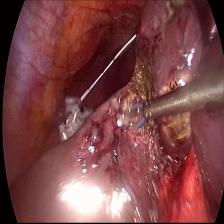Bipolar: (124, 94, 158, 134)
Specimen Bag: (57, 83, 96, 147)
